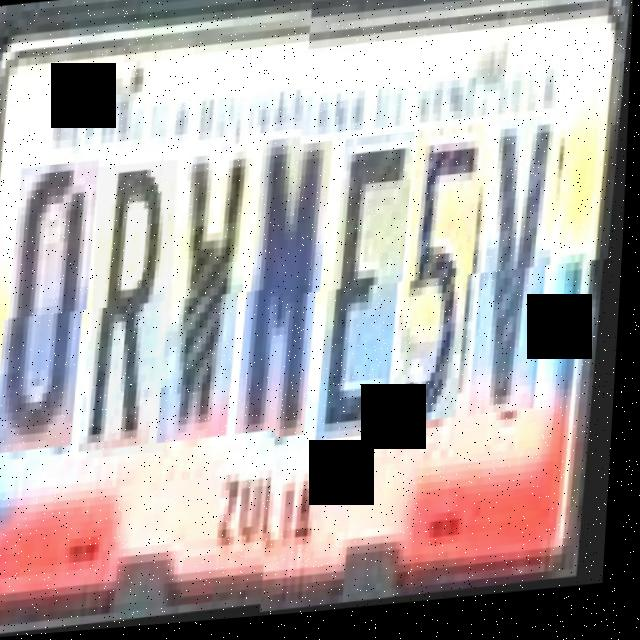0: (1, 169, 107, 462)
5: (399, 133, 494, 432)
E: (324, 140, 423, 447)
M: (243, 147, 342, 447)
R: (87, 162, 185, 461)
V: (477, 125, 571, 425)
W: (165, 154, 264, 454)
